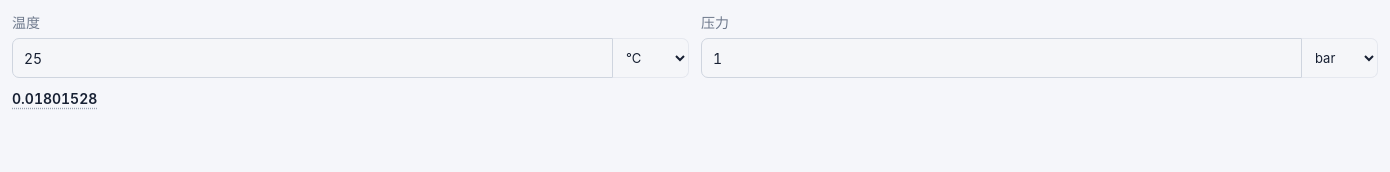
Test case: preserves trial units, physical values, and complete precision across language changes
Replace the text in the field named "试算温度 (°C)" with "125.25" at (312, 58), box left=12, top=38, right=613, bottom=78
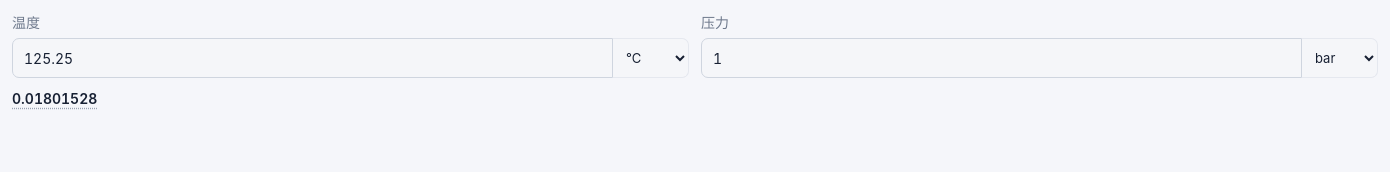
Select "MPa" in the dropdown named "试算压力单位" at (1340, 58), box left=1302, top=38, right=1378, bottom=78
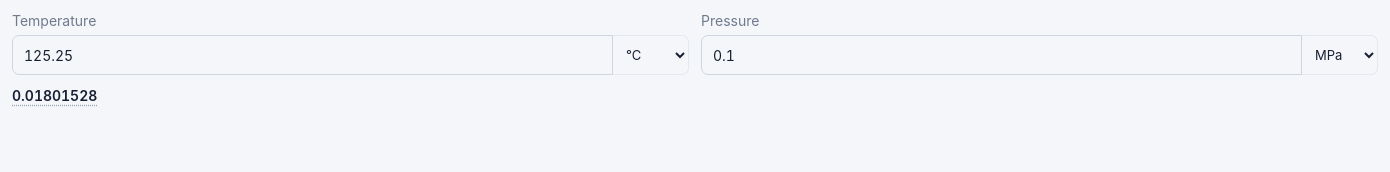
Now the heading named "View full value 0.01801528" is shown, box left=12, top=87, right=97, bottom=104
